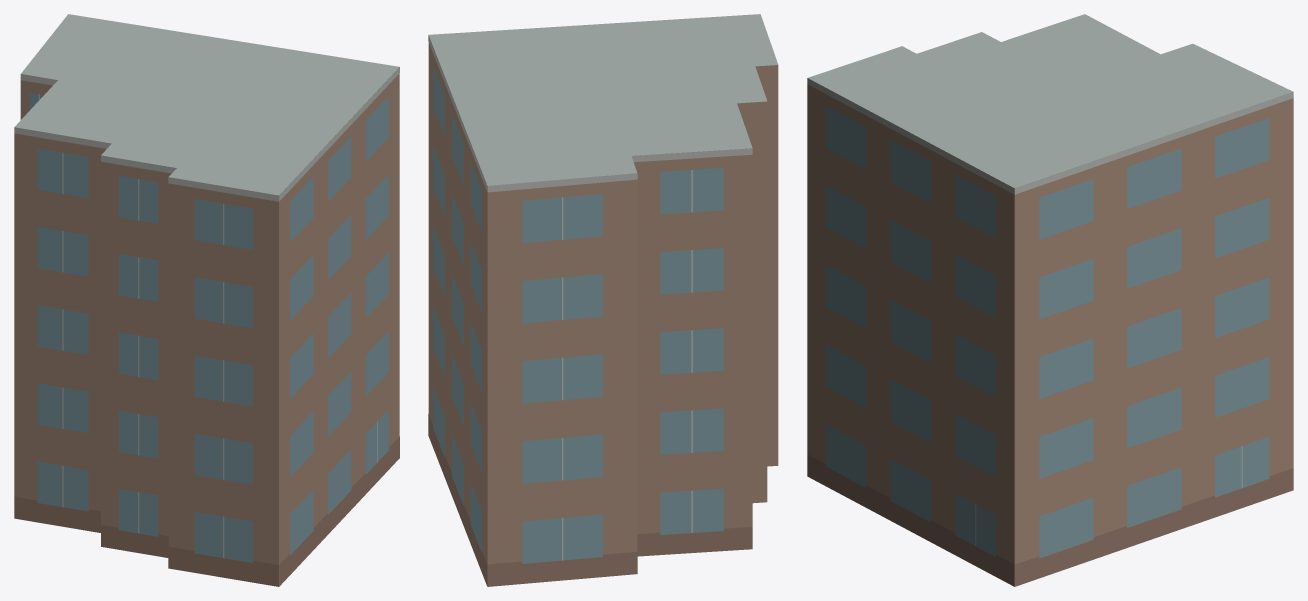
File: survey-upis-32904654.glb
3 views of the same model, side by side, from view 1: azimuth 30°, elevation 25°; view 2: azimuth 150°, elevation 25°; view 3: azimuth 270°, elevation 25° (orthographic). The views are drawn at different scales.
Visible parts, largest first — view 1: survey-upis-32904654.tmp; view 2: survey-upis-32904654.tmp; view 3: survey-upis-32904654.tmp.
Part boxes in pixels (x1,y1,x2,y2): survey-upis-32904654.tmp: (14, 14, 399, 586); survey-upis-32904654.tmp: (428, 14, 778, 586); survey-upis-32904654.tmp: (807, 14, 1293, 586).
Bounding box in the file's own units: 14.32 × 15.25 × 16.87.
